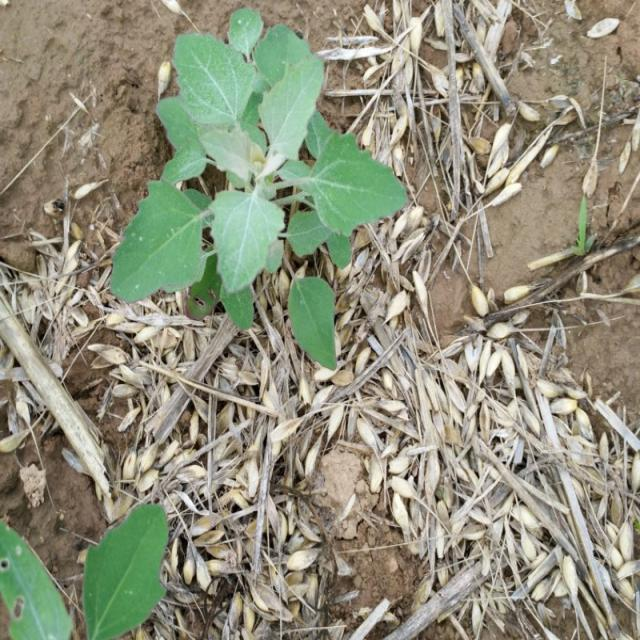goosefoots: (93, 20, 418, 363)
